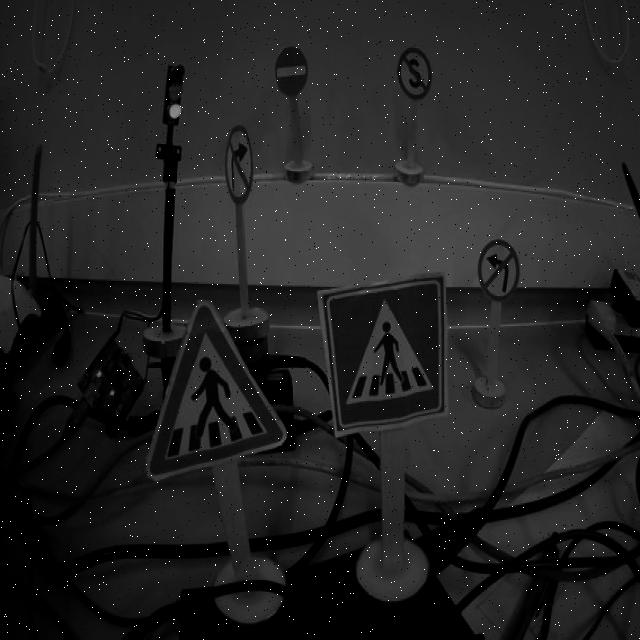Dilarang Belok Kanan: (225, 128, 252, 200)
Dilarang Belok Kiri: (478, 240, 519, 300)
Dilarang Masuk: (275, 47, 308, 96)
Lampu Hijau: (162, 65, 184, 126)
Rambu Berhenti: (396, 46, 431, 98)
Rambu Penyebrangan: (147, 303, 285, 478), (316, 272, 448, 436)
